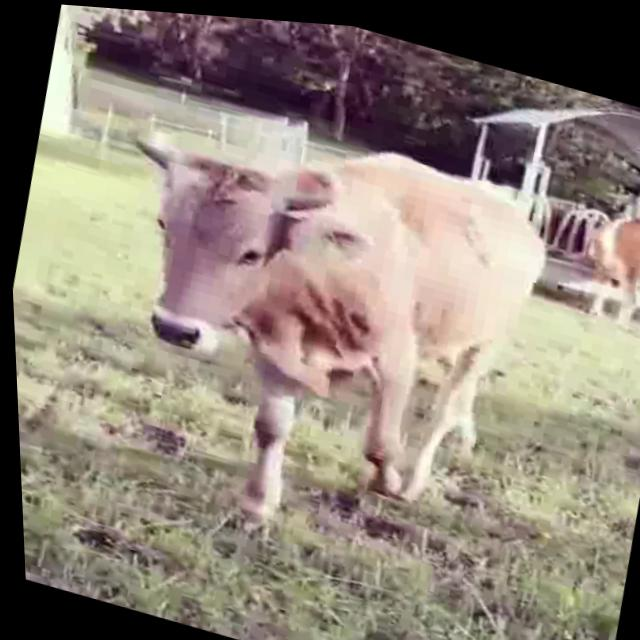cowFace: (93, 112, 343, 387)
